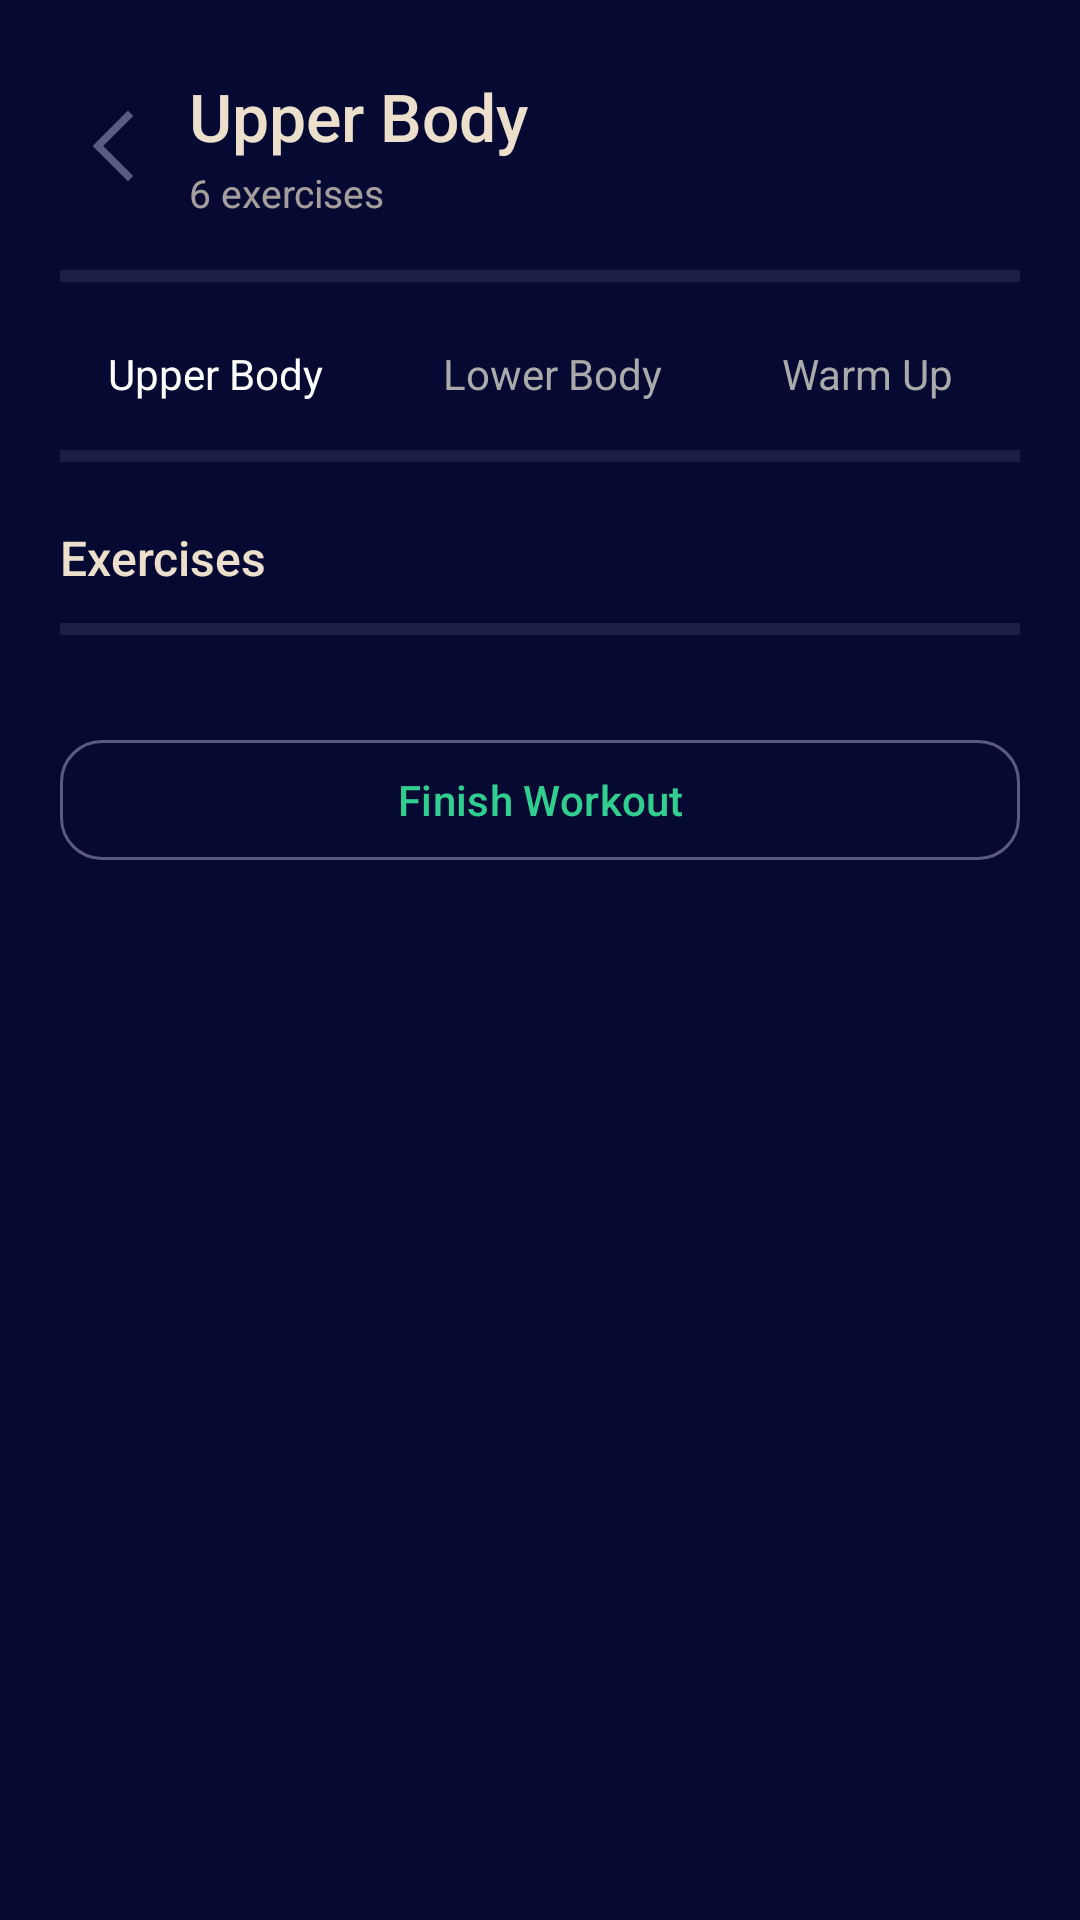

Point at icon controls on the screen. Image size 1080×1920, points as [x,y].
back: [113,146]
